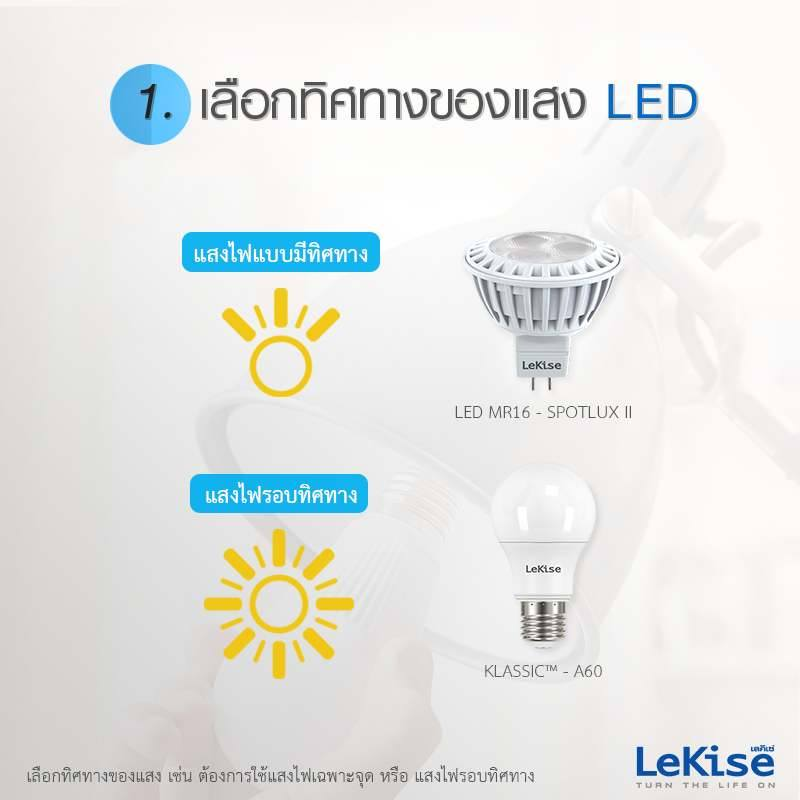Light_bulb: (460, 217, 629, 399), (473, 461, 607, 656)
